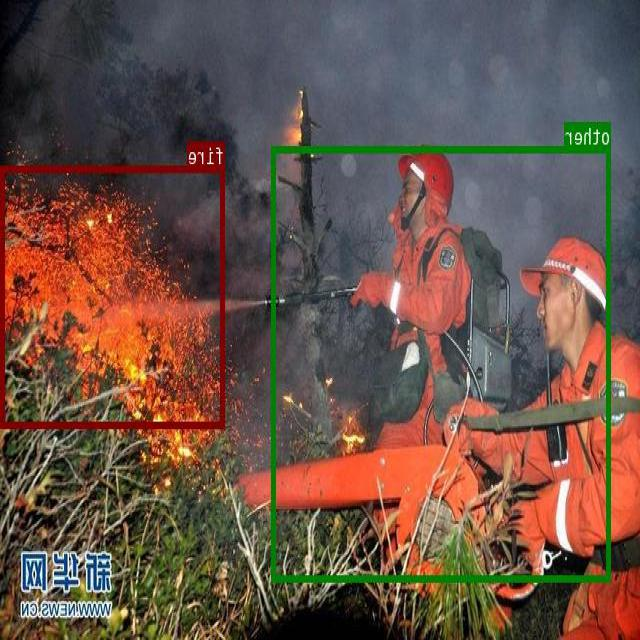fire: (2, 164, 225, 426)
other: (273, 145, 612, 581)
